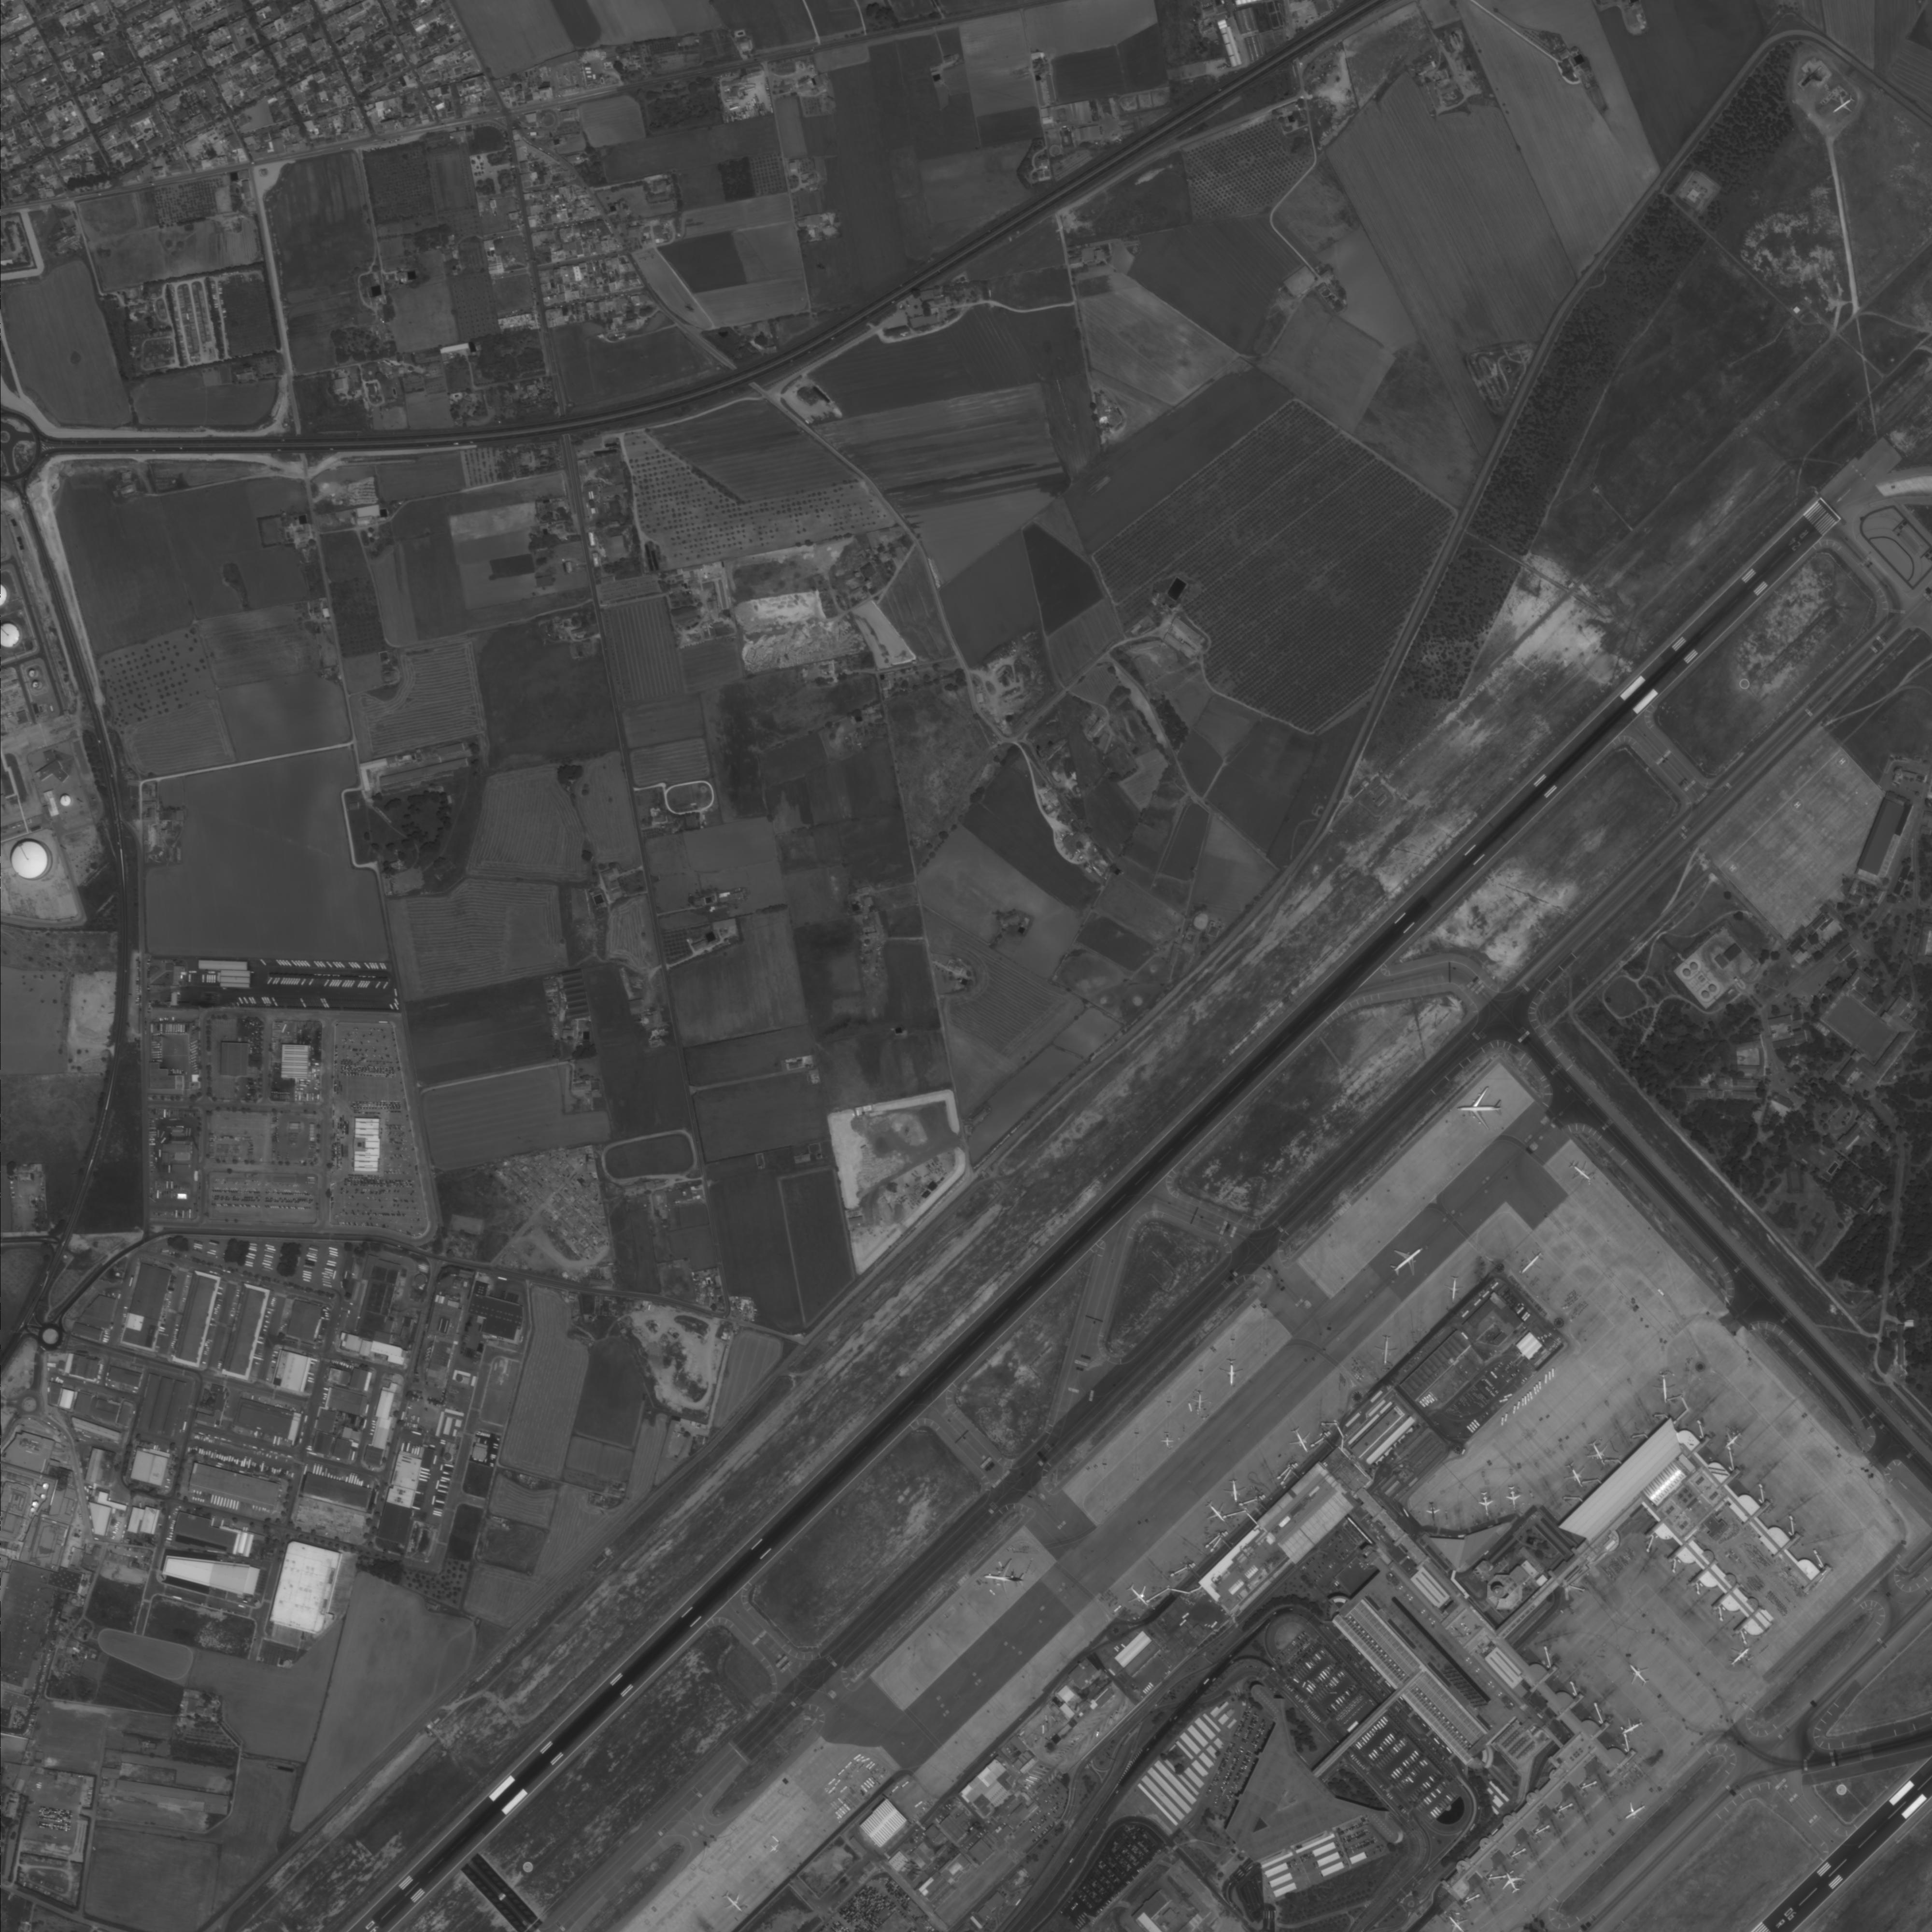plane: (1383, 1236, 1433, 1285), (1458, 1085, 1504, 1131), (984, 1556, 1026, 1601), (1557, 1457, 1594, 1494), (1514, 1246, 1551, 1282), (1120, 1578, 1157, 1614), (1198, 1495, 1234, 1531), (1620, 1659, 1657, 1693), (1723, 1639, 1758, 1673), (1563, 1153, 1598, 1188), (1619, 1795, 1653, 1830), (1580, 1435, 1615, 1468), (1284, 1423, 1318, 1457), (717, 1886, 750, 1918), (1718, 1424, 1750, 1457), (1497, 1868, 1530, 1901), (1826, 87, 1861, 117), (1371, 1334, 1400, 1366), (1619, 1714, 1649, 1741), (1651, 1373, 1677, 1403), (1217, 1359, 1245, 1388), (1441, 1911, 1475, 1932), (1443, 1275, 1466, 1303), (1222, 1479, 1247, 1504), (1477, 1491, 1496, 1516), (1190, 1389, 1210, 1410), (1505, 1484, 1523, 1509), (766, 1839, 783, 1858), (1425, 1502, 1441, 1522), (1160, 1433, 1175, 1449)
